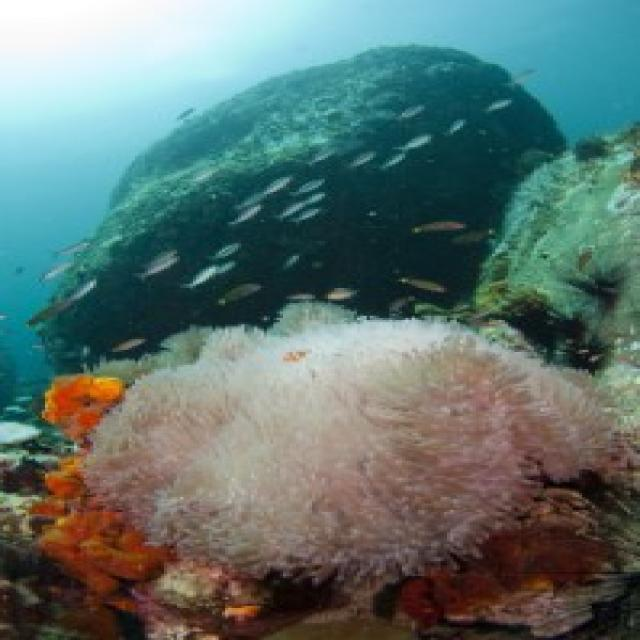Bleached: (88, 321, 541, 577), (477, 142, 638, 340)
